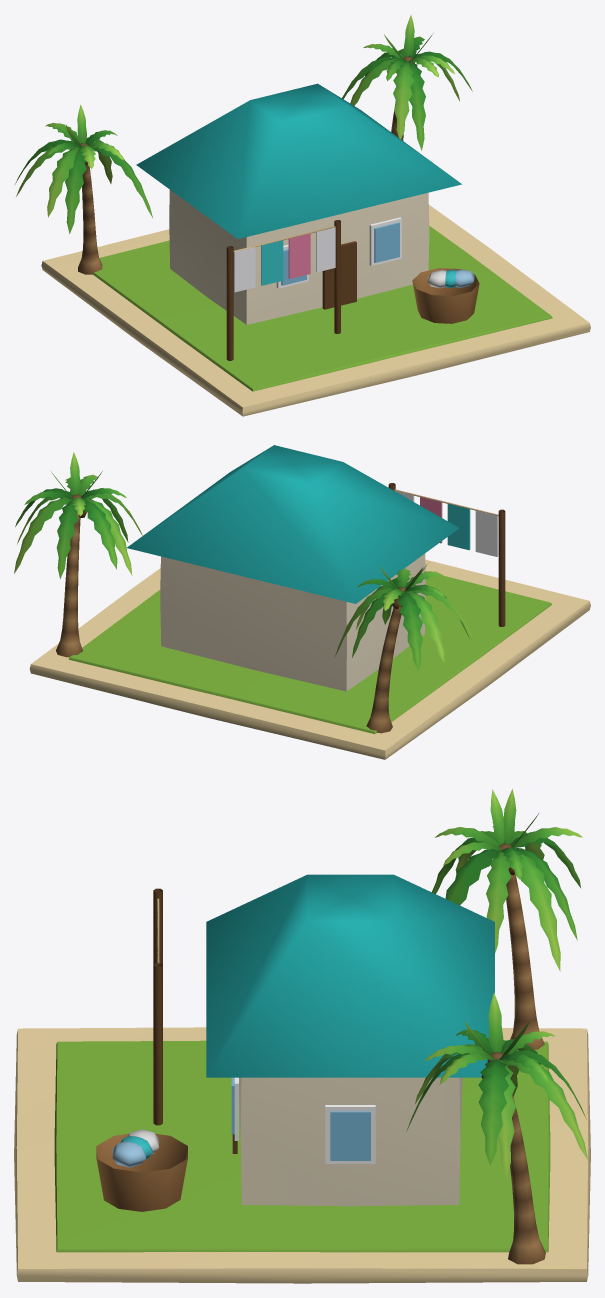
File: Housekeeping.obj
The picture shows the model from 3 angles, top to bottom: view 1: azimuth 30°, elevation 25°; view 2: azimuth 150°, elevation 25°; view 3: azimuth 270°, elevation 25°; orthographic projection. The views are drawn at different scales.
Parts seen in each view (by area): view 1: Housekeeping; view 2: Housekeeping; view 3: Housekeeping.
Part boxes in pixels (x1=…): Housekeeping: x1=15, y1=14, x2=590, y2=416; Housekeeping: x1=14, y1=445, x2=590, y2=759; Housekeeping: x1=14, y1=789, x2=590, y2=1283.
Size of the model in its own units: 4.49 by 1.84 by 3.6.
Materials: 1 (1 with a texture image).
